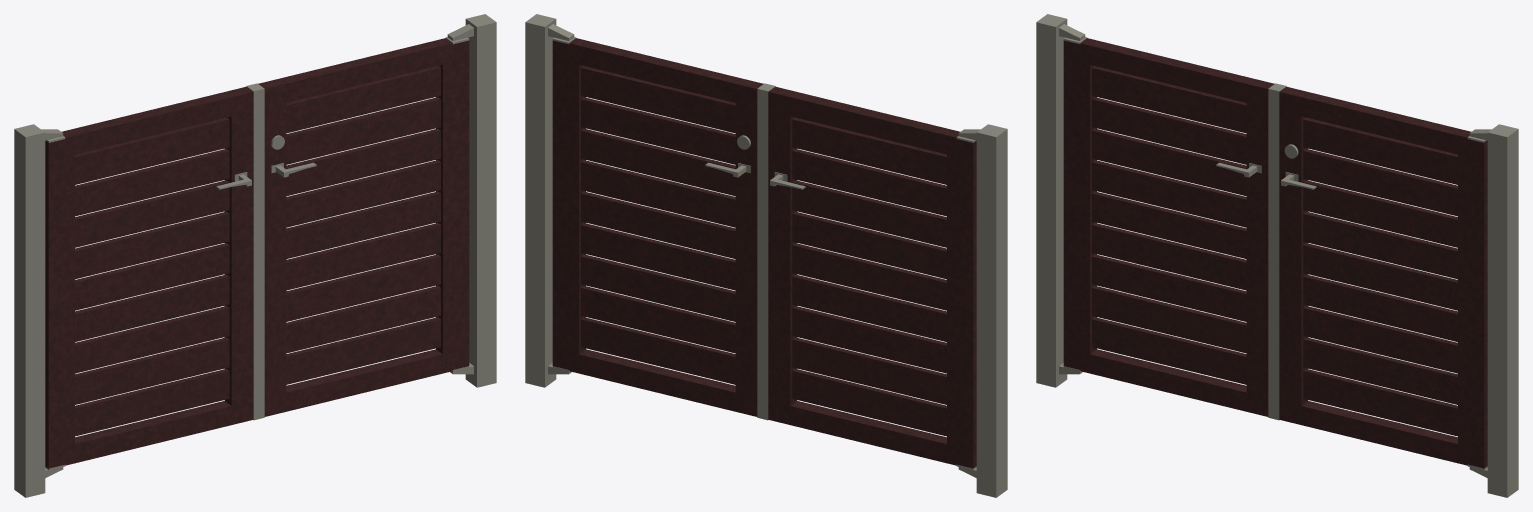
Rendered from awmonpi2-102yoko_h1200-w800-800_rustycopper.fbx.
The picture shows the model from 3 angles, left to right: view 1: azimuth 30°, elevation 25°; view 2: azimuth 150°, elevation 25°; view 3: azimuth 330°, elevation 25°; orthographic projection.
Visible parts, largest first — view 1: awmonpi2-102yoko_h1200-w800-800_chacoalgray.006; view 2: awmonpi2-102yoko_h1200-w800-800_chacoalgray.006; view 3: awmonpi2-102yoko_h1200-w800-800_chacoalgray.006.
Boxes of the visible parts, box(x1,y1,x2,y2) form: awmonpi2-102yoko_h1200-w800-800_chacoalgray.006: box(14, 14, 496, 497); awmonpi2-102yoko_h1200-w800-800_chacoalgray.006: box(525, 14, 1007, 497); awmonpi2-102yoko_h1200-w800-800_chacoalgray.006: box(1036, 14, 1518, 497).
Bounding box in the file's own units: 180 × 132 × 16.7.
Materials: 2 (2 with a texture image).
